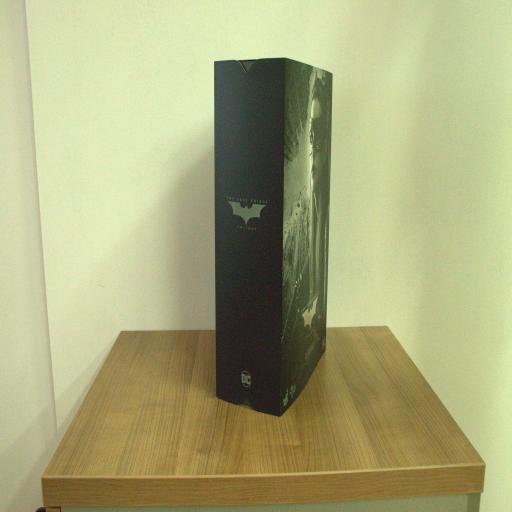catwoman: (214, 56, 334, 416)
